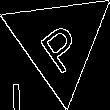P_NW: (31, 10, 87, 73)
